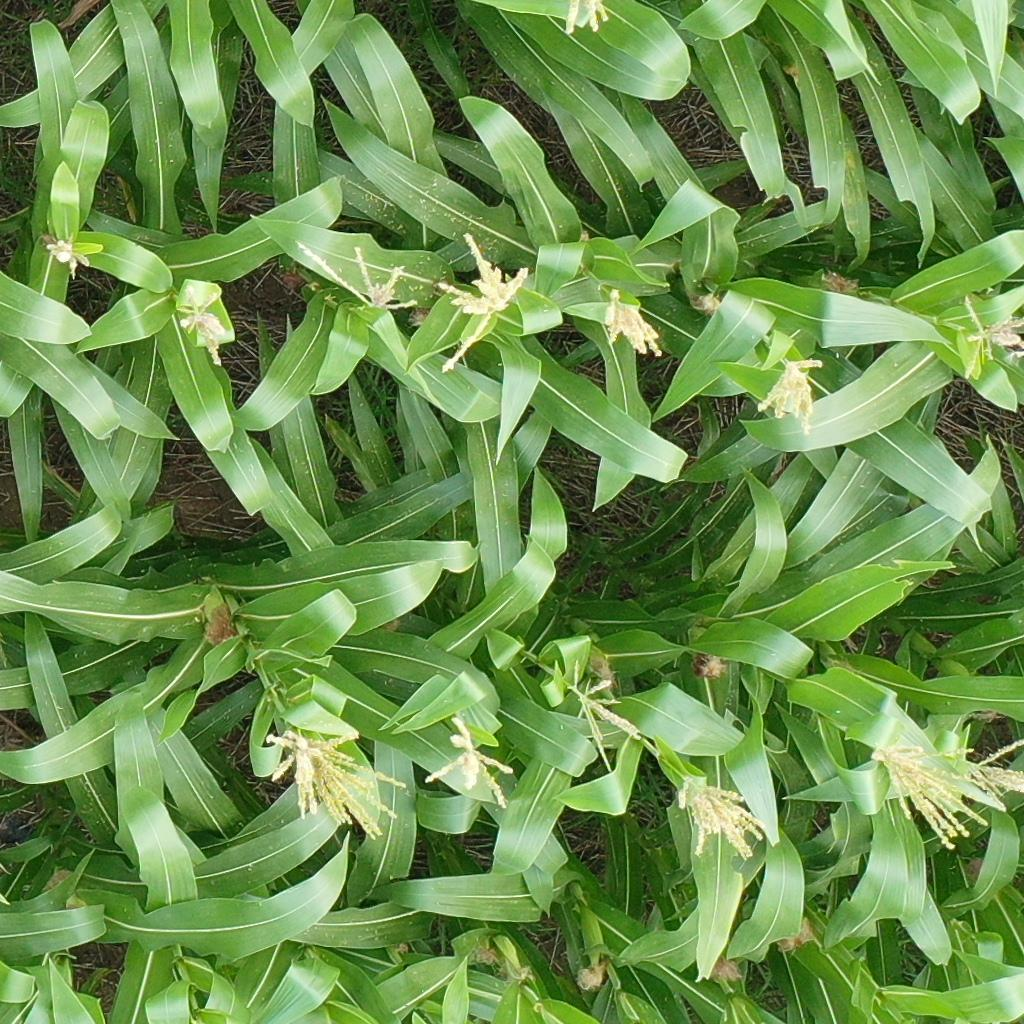Tassel: (263, 720, 407, 842), (425, 231, 533, 375), (875, 737, 991, 852), (294, 239, 420, 311), (423, 716, 517, 812), (676, 774, 769, 861), (568, 664, 642, 769), (951, 295, 1024, 380), (756, 351, 826, 436), (962, 737, 1024, 810), (603, 285, 664, 359), (175, 284, 229, 362), (45, 232, 92, 273), (564, 1, 610, 35)
